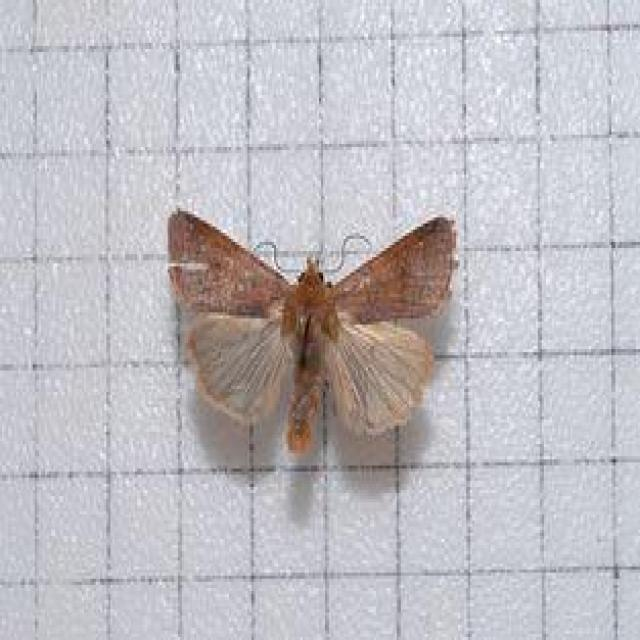BeetArmyWorm-Adult-: (145, 188, 493, 474)
